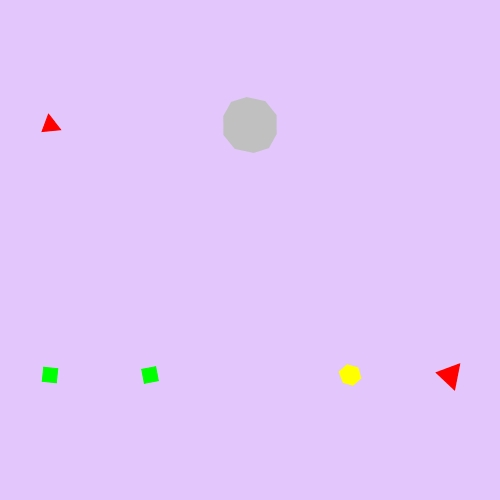decagon: (217, 95, 283, 156)
hexagon: (334, 362, 366, 389)
quadrilateral: (35, 360, 65, 390), (135, 360, 165, 390)
triangle: (434, 358, 466, 392), (37, 111, 64, 139)
